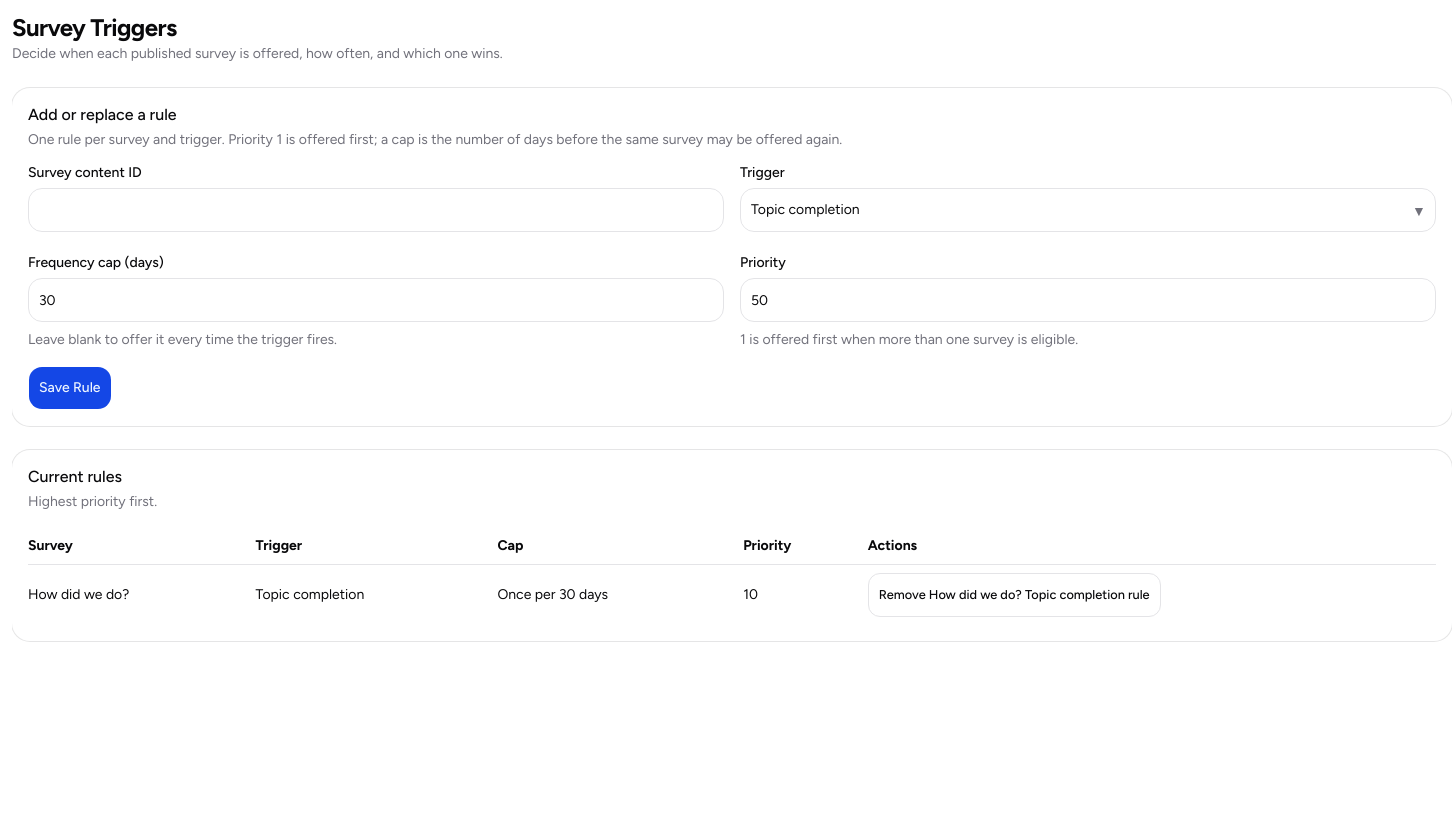
SurveyTriggersView › refuses a page-depth rule with no depth, and says why
The width and height of the screenshot is (1452, 822).
Click the dropdown named "trigger" at (805, 210), box [740, 188, 1436, 232]
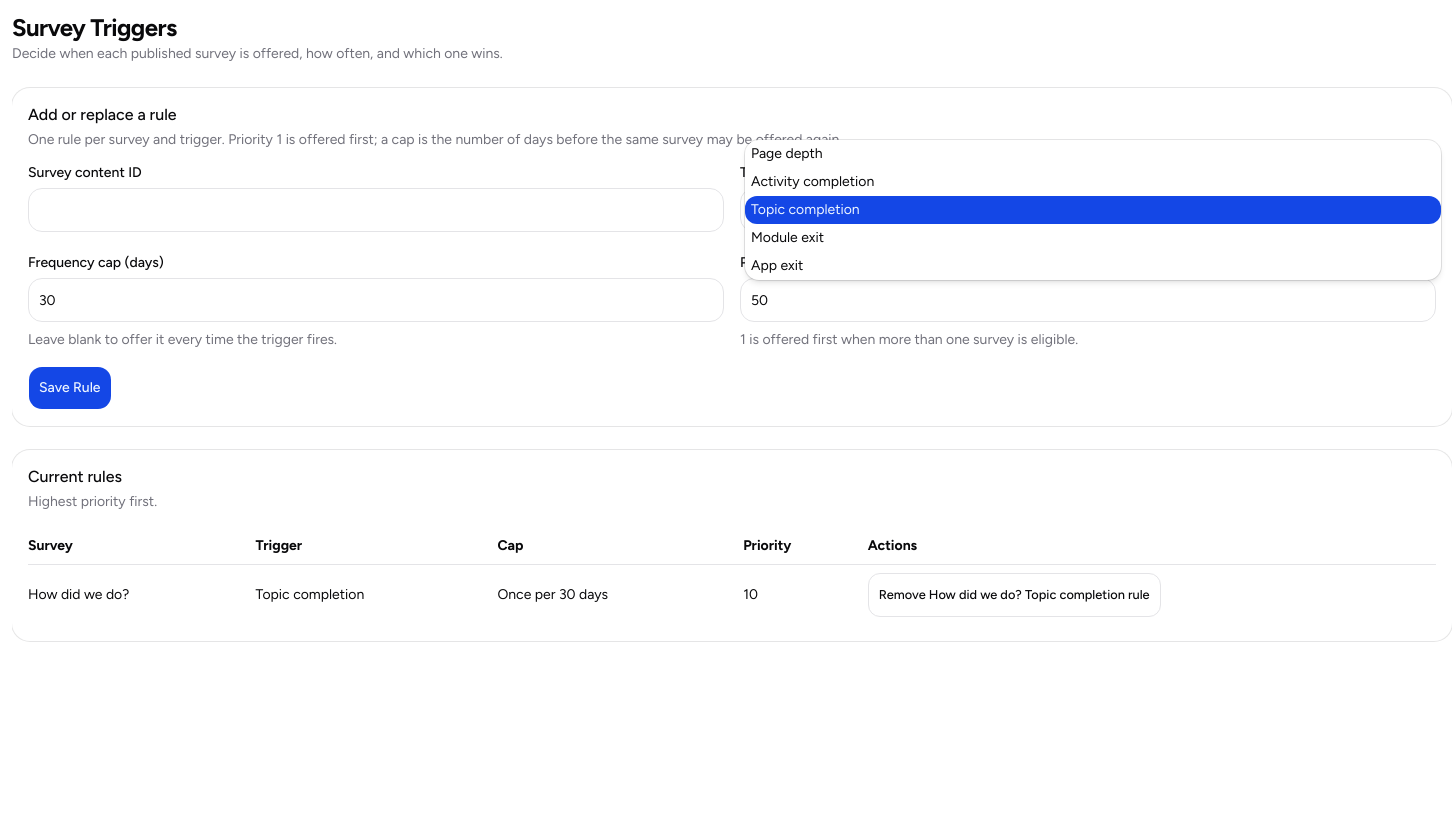
Click the option "Page depth" at (787, 154), box [751, 145, 823, 162]
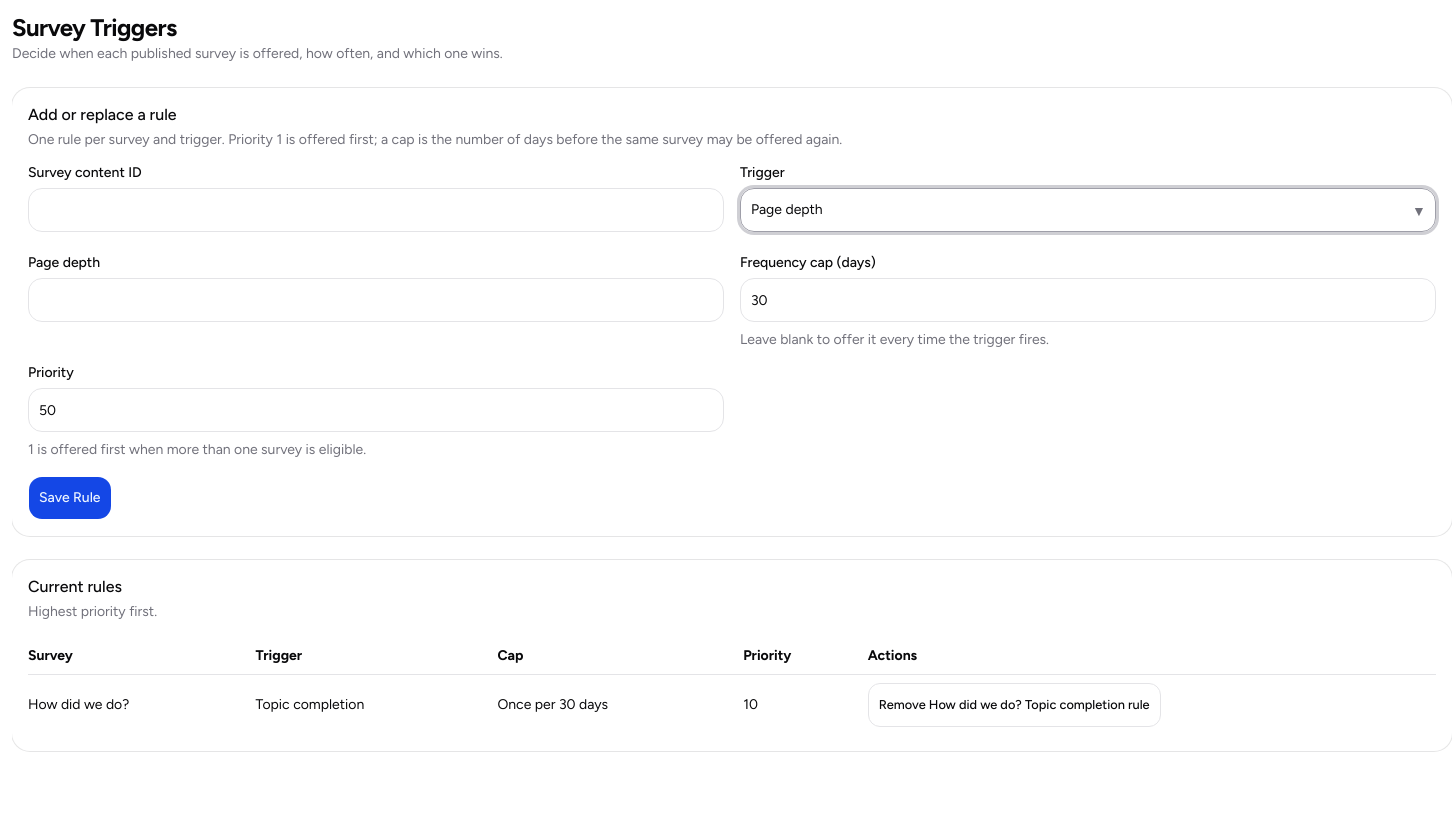
Type "3f3d4c0e-9f7c-4f3a-9d8e-8b2b0a1c5d61" into the field labelled "Survey content ID" at (376, 210), box [28, 188, 724, 232]
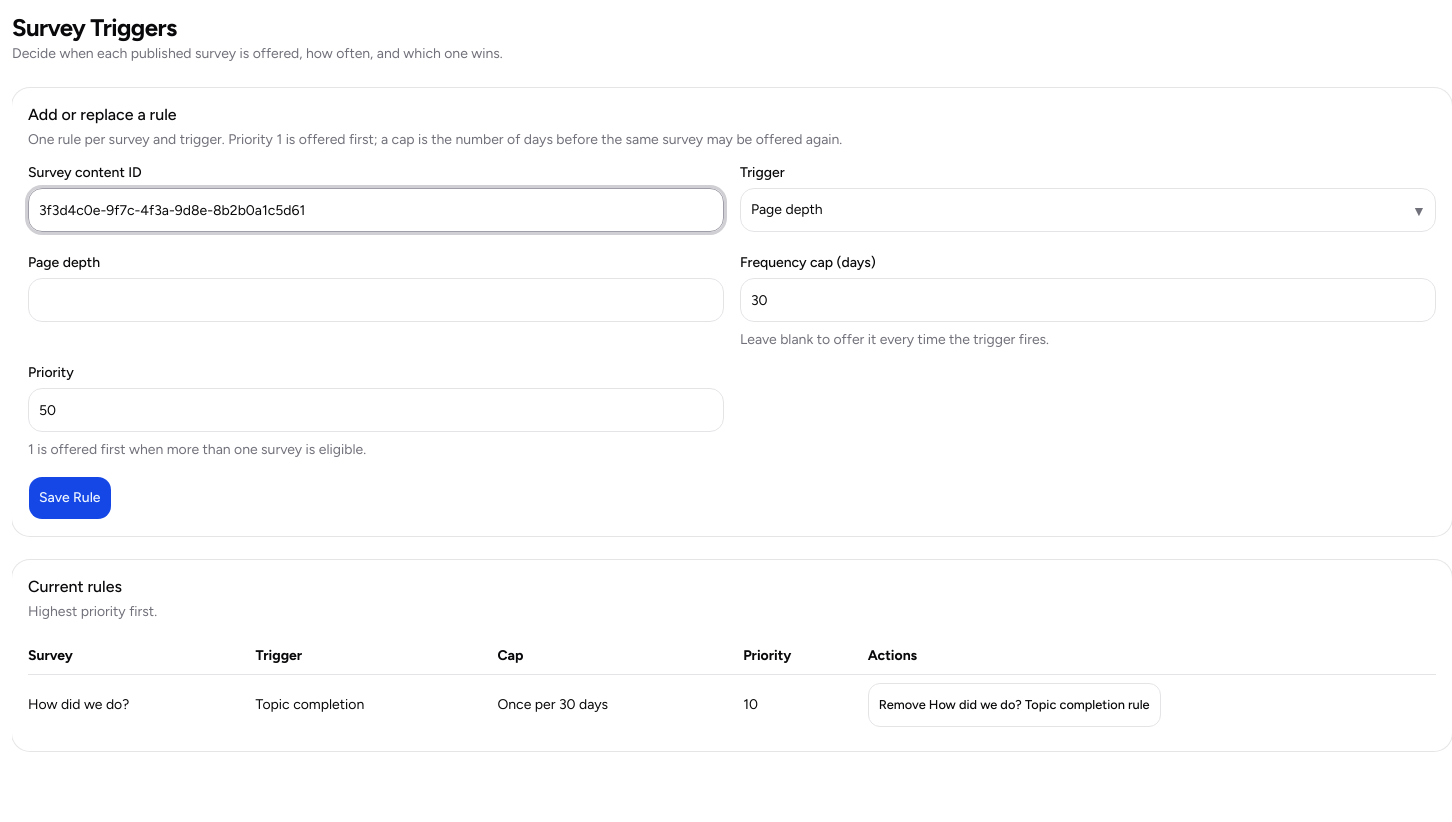
Click the button "Save Rule" at (70, 498), box [28, 476, 112, 520]
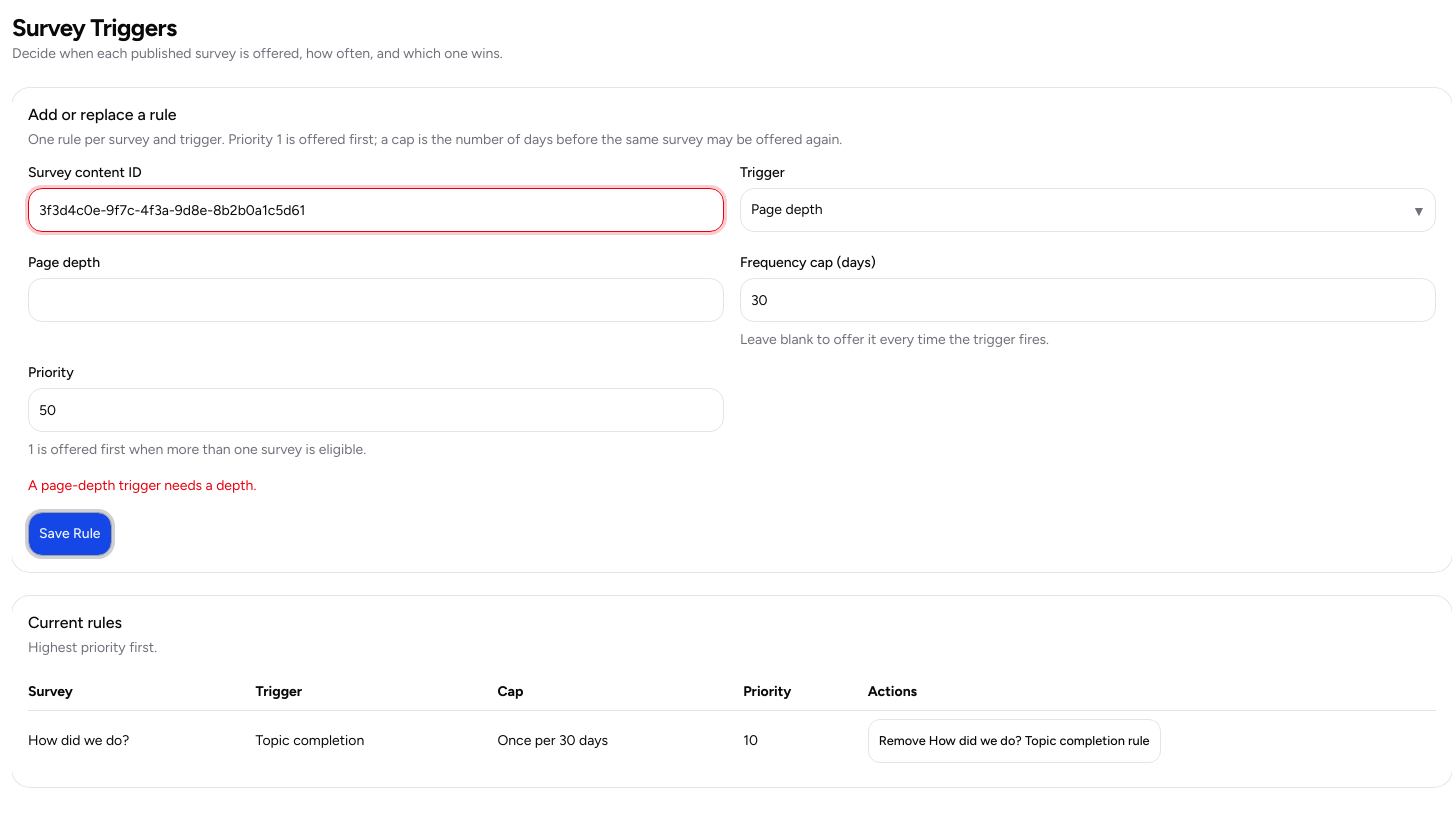
Expected: the message reads "A page-depth trigger needs a depth.", [28, 477, 256, 494]
